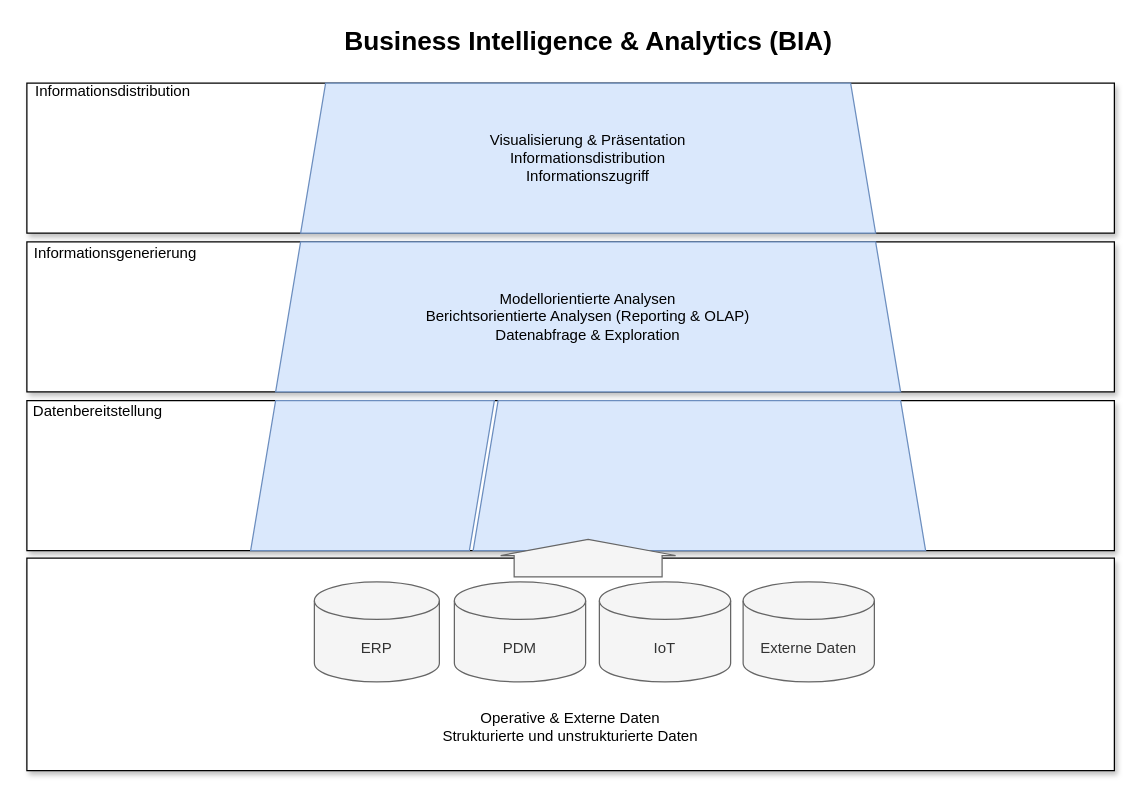
Image size: 1144x801. Some labels were removed from this diagram. The shapes that lost their labels are listed below. From the top down, each one's centre as x and y in pixels, then its label:
[371,475]: Data Lake
[699,475]: Data Mart Core Data Warehouse
[587,557]: ETL
